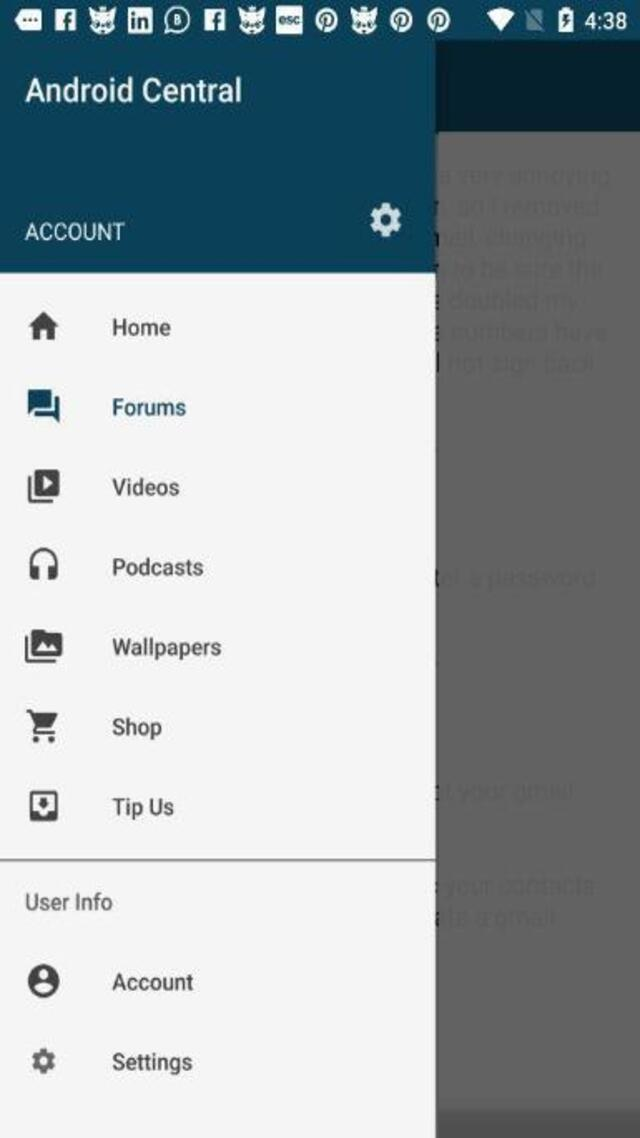Icon: (23, 628, 63, 664), (369, 202, 402, 238), (26, 468, 59, 504), (25, 708, 58, 744), (26, 388, 59, 422), (27, 962, 59, 996), (27, 790, 59, 822), (28, 546, 58, 580), (27, 310, 59, 341), (30, 1046, 56, 1074)
Text: (25, 75, 241, 103), (110, 637, 222, 662), (112, 1051, 194, 1076), (112, 555, 204, 576), (24, 889, 112, 910), (24, 222, 126, 240), (112, 971, 195, 992), (112, 396, 187, 418), (110, 476, 180, 498), (112, 796, 174, 819), (112, 316, 172, 338), (112, 716, 162, 741)
